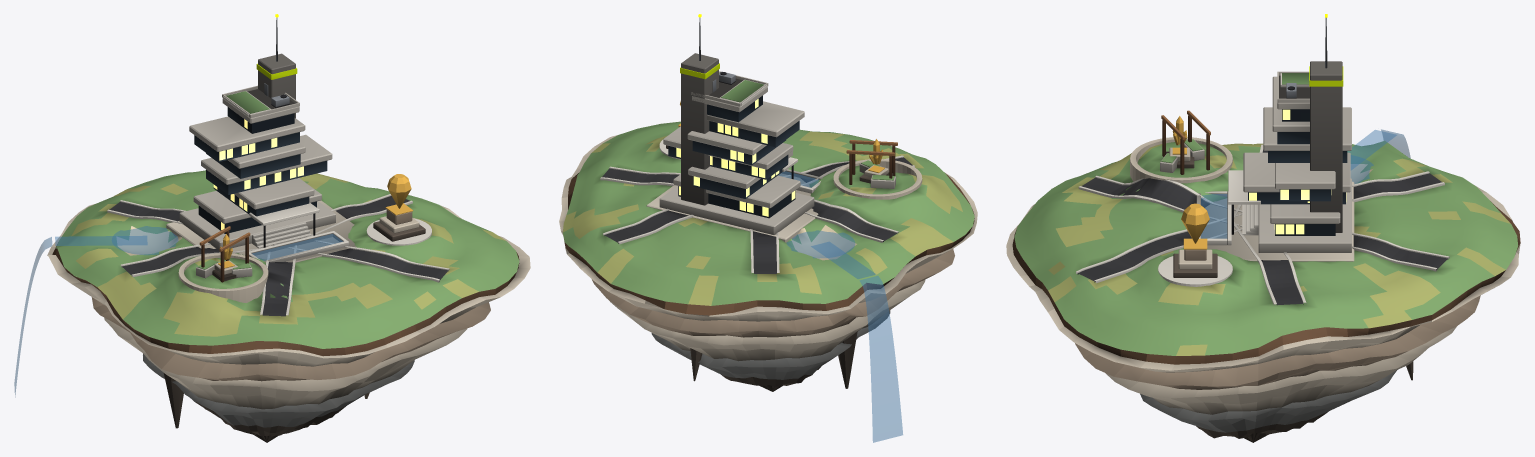
The model's file is about_lod1.glb.
The picture shows the model from 3 angles, left to right: view 1: azimuth 30°, elevation 25°; view 2: azimuth 150°, elevation 25°; view 3: azimuth 270°, elevation 25°; orthographic projection. The views are drawn at different scales.
Parts seen in each view (by area): view 1: terrain, foundation, buildings, water_pond0, props, water_channel0, water_reflect, waterfall_0, anim_spin_monument; view 2: terrain, foundation, buildings, waterfall_0, water_pond0, props, water_channel0; view 3: terrain, foundation, buildings, props, water_reflect, water_channel0, anim_spin_monument, water_pond0.
Boxes of the visible parts, x1,y1,x2,y2 form: terrain: (56, 170, 519, 348); foundation: (47, 203, 530, 442); buildings: (178, 53, 425, 302); water_pond0: (111, 226, 178, 255); props: (197, 14, 294, 269); water_channel0: (55, 236, 147, 245); water_reflect: (252, 234, 342, 260); waterfall_0: (14, 237, 52, 397); anim_spin_monument: (387, 174, 411, 208); terrain: (562, 121, 974, 305); foundation: (559, 135, 977, 391); buildings: (659, 53, 922, 234); waterfall_0: (860, 276, 902, 442); water_pond0: (786, 230, 855, 258); props: (698, 14, 894, 180); water_channel0: (811, 242, 876, 278); terrain: (1014, 141, 1518, 355); foundation: (1006, 185, 1520, 442); buildings: (1130, 61, 1351, 277); props: (1161, 14, 1327, 163); water_reflect: (1201, 194, 1227, 238); water_channel0: (1347, 130, 1396, 169); anim_spin_monument: (1181, 203, 1209, 243); water_pond0: (1350, 155, 1373, 183).
Bounding box in the file's own units: 23.13 × 21.35 × 22.03.
